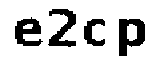2: (44, 7, 78, 50)
c: (80, 16, 106, 49)
e: (12, 17, 43, 50)
p: (112, 15, 149, 60)
